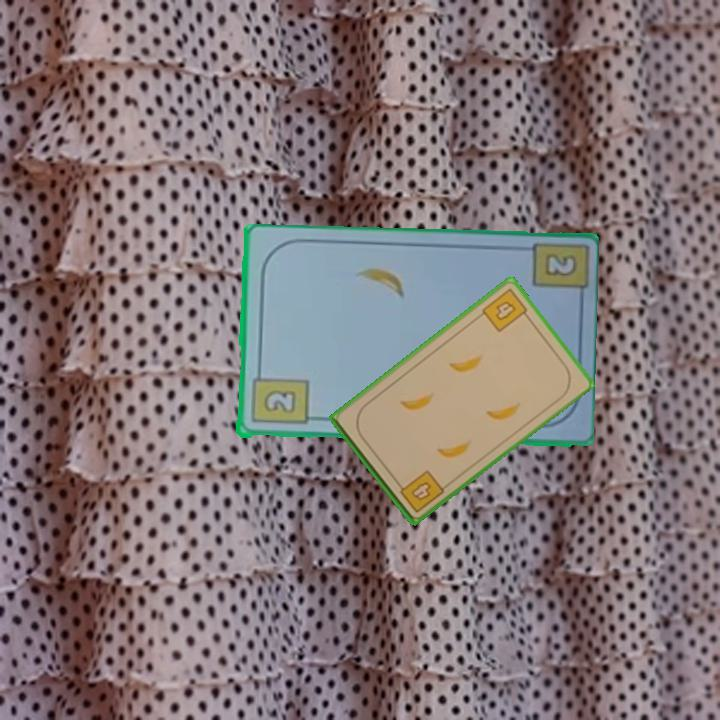2b: (248, 365, 310, 428), (540, 250, 580, 280)
4b: (478, 284, 533, 335), (393, 466, 447, 515)
